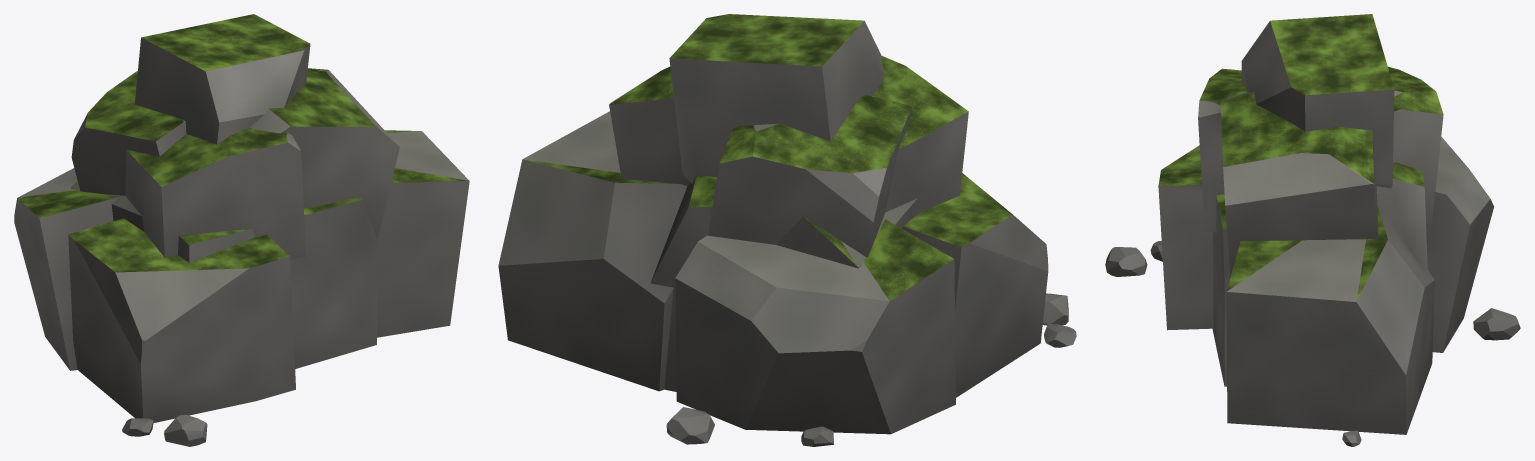
File: Cracked_rock_07.lod1.glb
3 views of the same model, side by side, from view 1: azimuth 30°, elevation 25°; view 2: azimuth 150°, elevation 25°; view 3: azimuth 270°, elevation 25° (orthographic). The views are drawn at different scales.
Parts seen in each view (by area): view 1: Rock; view 2: Rock; view 3: Rock.
Part boxes in pixels (x1=…): Rock: x1=14, y1=14, x2=469, y2=446; Rock: x1=498, y1=14, x2=1076, y2=446; Rock: x1=1105, y1=14, x2=1520, y2=446.
Size of the model in its own units: 4.27 by 2.95 by 3.78.
2 materials, 2 textured.
